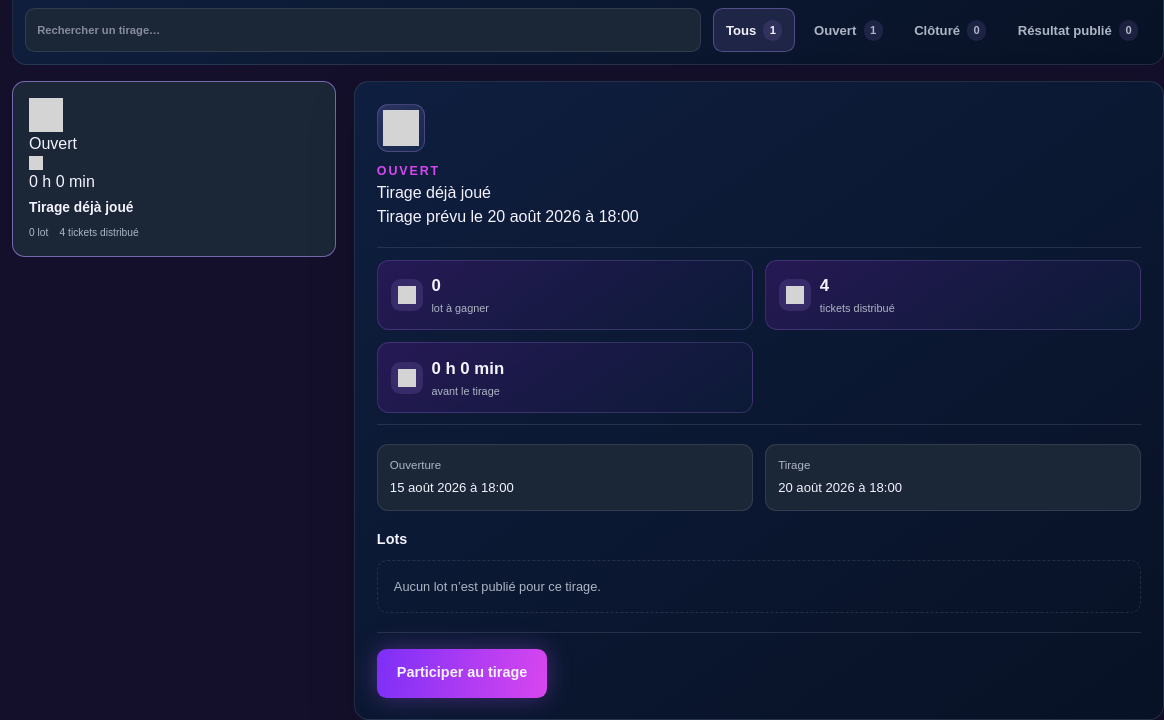
Test: ListeTirages › affiche une erreur de conflit 409 sans redirection lors de la participation
The image size is (1164, 720).
(page scrolled)
Click the button "Participer au tirage" at (462, 673), box [377,649,547,698]
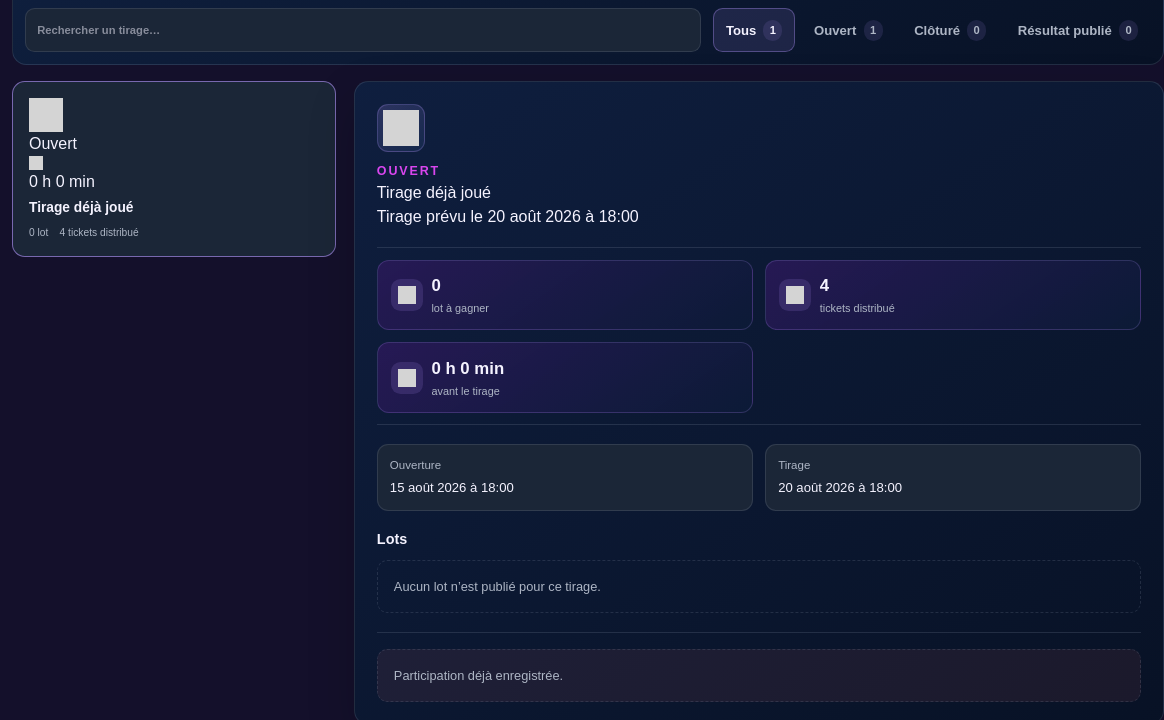
Result: the text "Participation déjà enregistrée." is shown at [377,649,1141,702]
